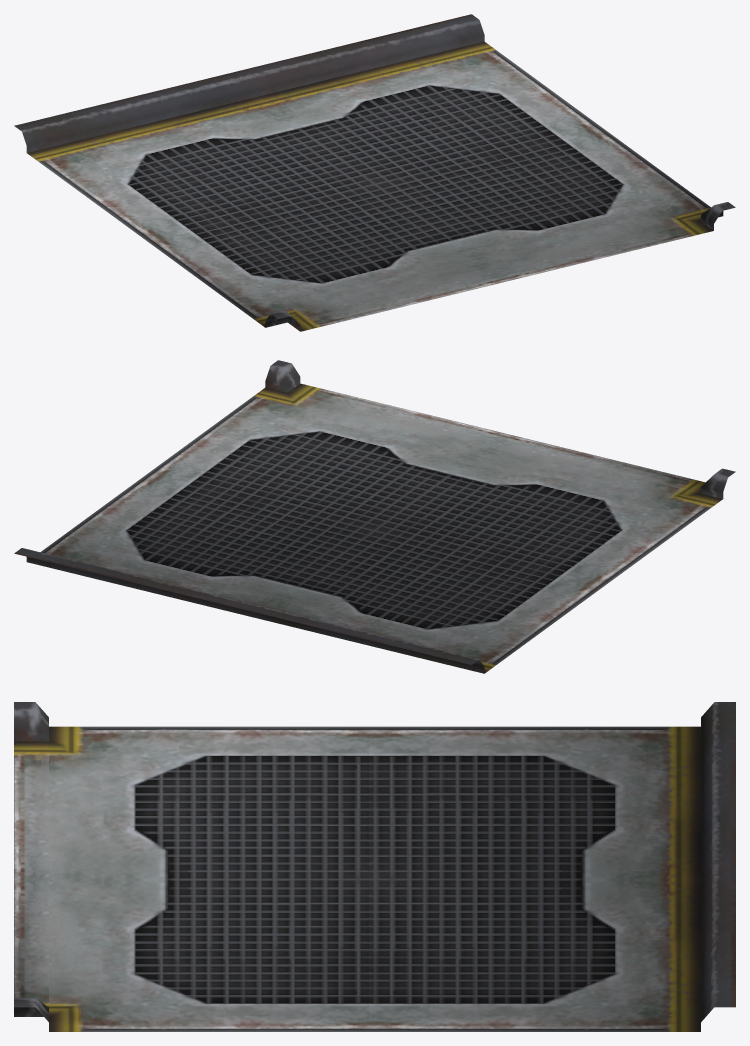
The model's file is MESH_CORREDOR_GROUND_03_WAY.fbx.
3 views of the same model, one above another, from view 1: azimuth 30°, elevation 25°; view 2: azimuth 150°, elevation 25°; view 3: azimuth 270°, elevation 25° (orthographic). The views are drawn at different scales.
Parts seen in each view (by area): view 1: MESH CORREDOR_GROUND_03_WAY; view 2: MESH CORREDOR_GROUND_03_WAY; view 3: MESH CORREDOR_GROUND_03_WAY.
Boxes of the visible parts, box(x1,y1,x2,y2) form: MESH CORREDOR_GROUND_03_WAY: box(14, 14, 735, 331); MESH CORREDOR_GROUND_03_WAY: box(14, 360, 735, 673); MESH CORREDOR_GROUND_03_WAY: box(14, 702, 735, 1031).
Bounding box in the file's own units: 4 × 0.15 × 4.
